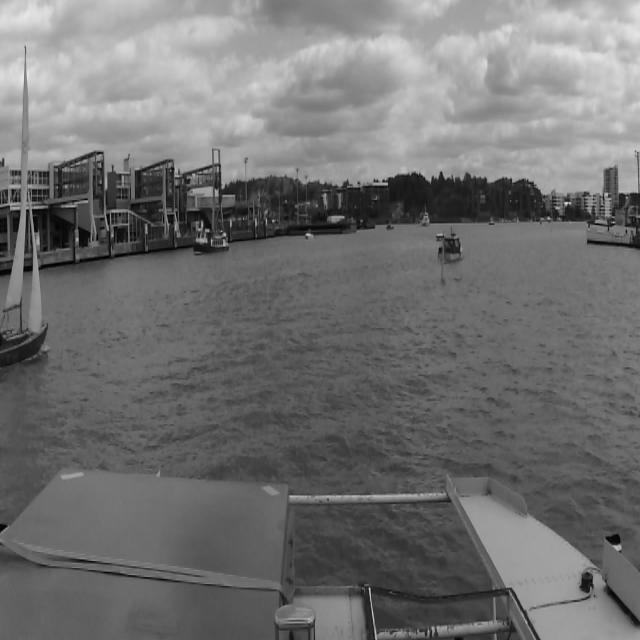buoy: (440, 225, 446, 290)
ship: (1, 46, 49, 367), (588, 203, 638, 249), (193, 228, 230, 254), (437, 230, 463, 260), (420, 213, 430, 227), (484, 215, 496, 226), (306, 233, 314, 239), (387, 225, 394, 229)
